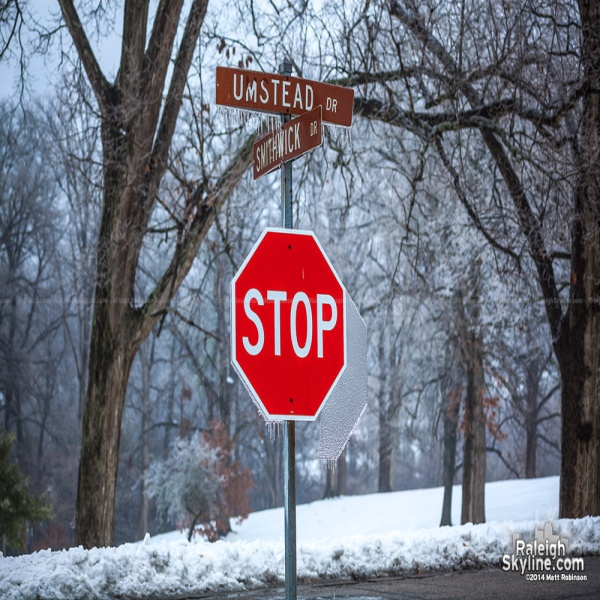stop: (228, 230, 346, 427)
